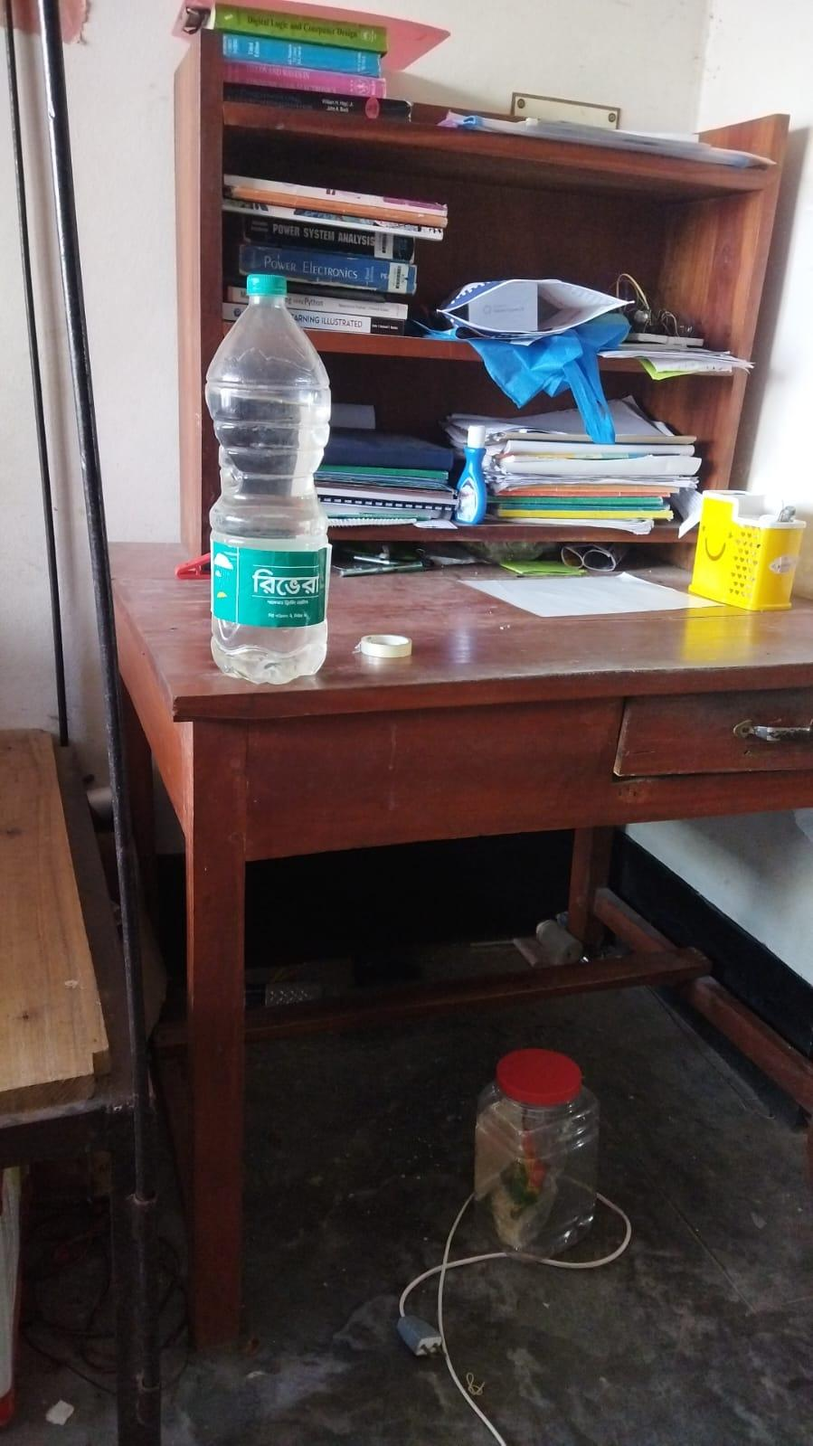Book: (202, 3, 440, 132), (227, 162, 407, 324)
Bottle: (181, 264, 370, 680), (451, 1022, 623, 1281)
Pen Stand: (664, 472, 812, 620)
